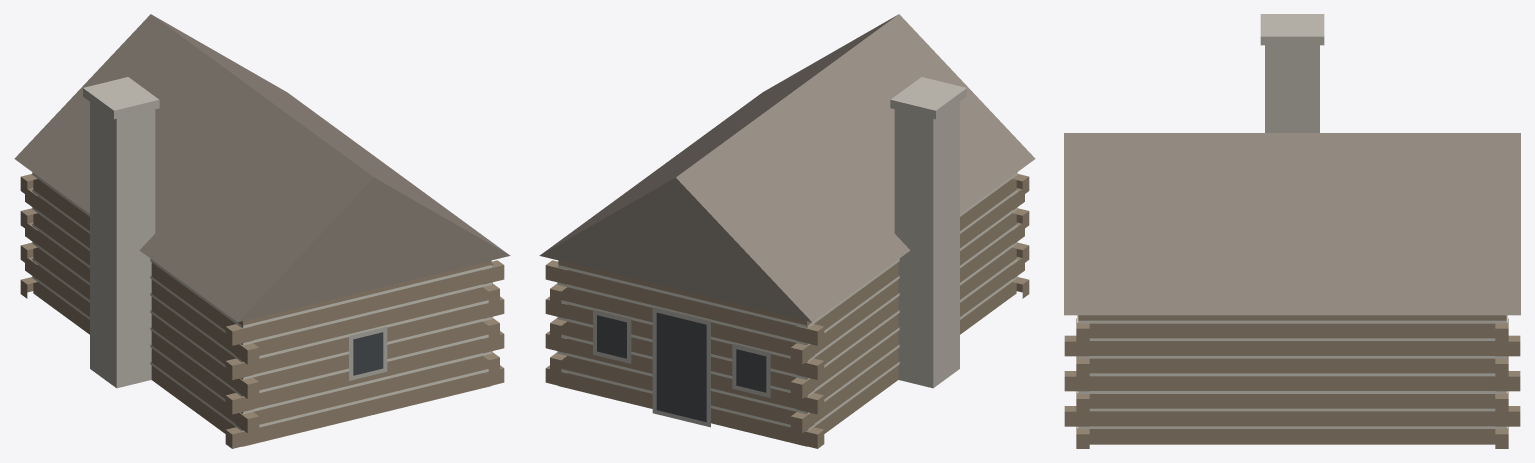
File: recon_1835_south_d1_033__inferred_1835.glb
3 renders of one model, left to right at view 1: azimuth 30°, elevation 25°; view 2: azimuth 150°, elevation 25°; view 3: azimuth 270°, elevation 25°, orthographic. The views are drawn at different scales.
Visible parts, largest first — view 1: recon_1835_south_d1_033__inferred_1835; view 2: recon_1835_south_d1_033__inferred_1835; view 3: recon_1835_south_d1_033__inferred_1835.
Boxes of the visible parts, x1,y1,x2,y2 form: recon_1835_south_d1_033__inferred_1835: [14, 14, 510, 448]; recon_1835_south_d1_033__inferred_1835: [539, 14, 1035, 448]; recon_1835_south_d1_033__inferred_1835: [1064, 14, 1520, 448].
Bounding box in the file's own units: 6.22 × 5.61 × 8.01.
